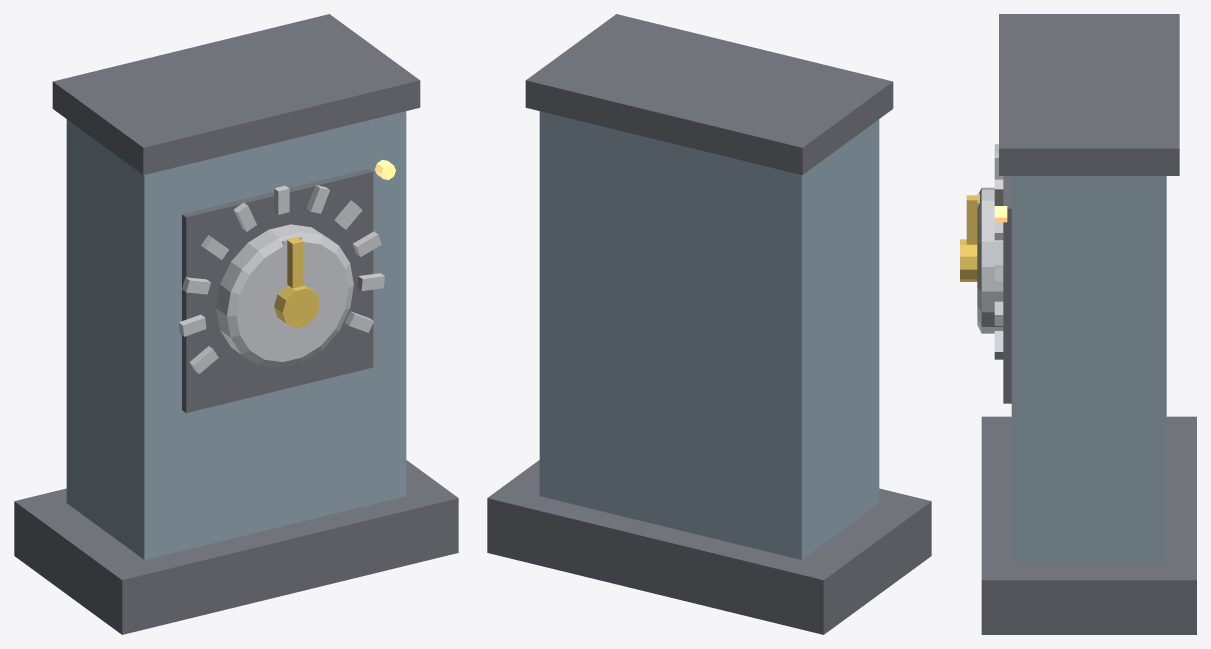
File: animated-mechanisms-kit-rotary-dial-9734b3d7__24638.glb
3 renders of one model, left to right at view 1: azimuth 30°, elevation 25°; view 2: azimuth 150°, elevation 25°; view 3: azimuth 270°, elevation 25°, orthographic.
Visible parts, largest first — view 1: rotary-dial, dial/steel, dial/accent; view 2: rotary-dial; view 3: rotary-dial, dial/steel, dial/accent.
Boxes of the visible parts, x1,y1,x2,y2 form: rotary-dial: (14, 14, 458, 634); dial/steel: (216, 224, 353, 368); dial/accent: (274, 237, 319, 328); rotary-dial: (487, 14, 931, 634); rotary-dial: (981, 14, 1196, 634); dial/steel: (977, 187, 1003, 333); dial/accent: (960, 195, 979, 281).
Bounding box in the file's own units: 0.8999 × 1.21 × 0.55.
